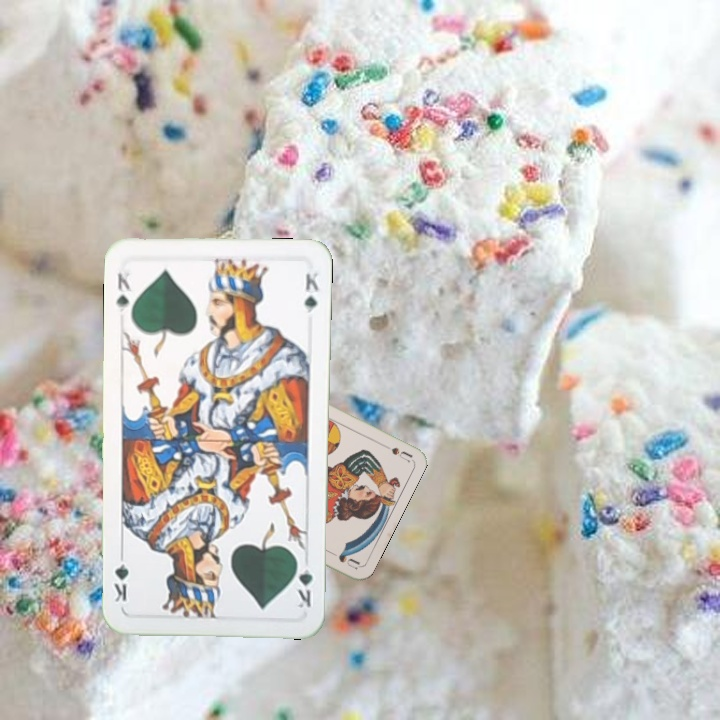GK: (293, 554, 316, 613), (112, 261, 134, 314)
SU: (375, 438, 414, 464)
